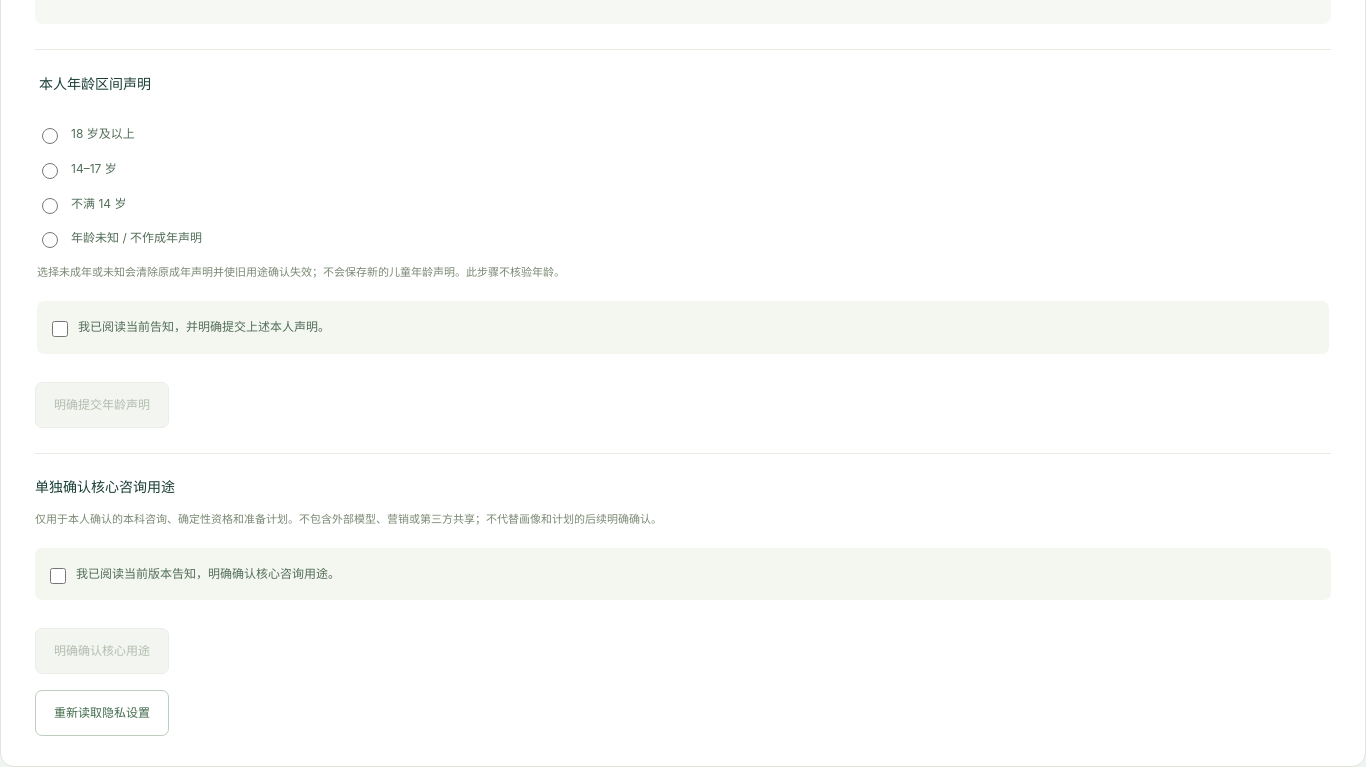
explicit privacy panel › shows a current 403 refusal without pretending consent succeeded
(page scrolled)
Step 1. Click the checkbox with test id "core-confirmation" → x=58, y=576, box [50,568,66,584]
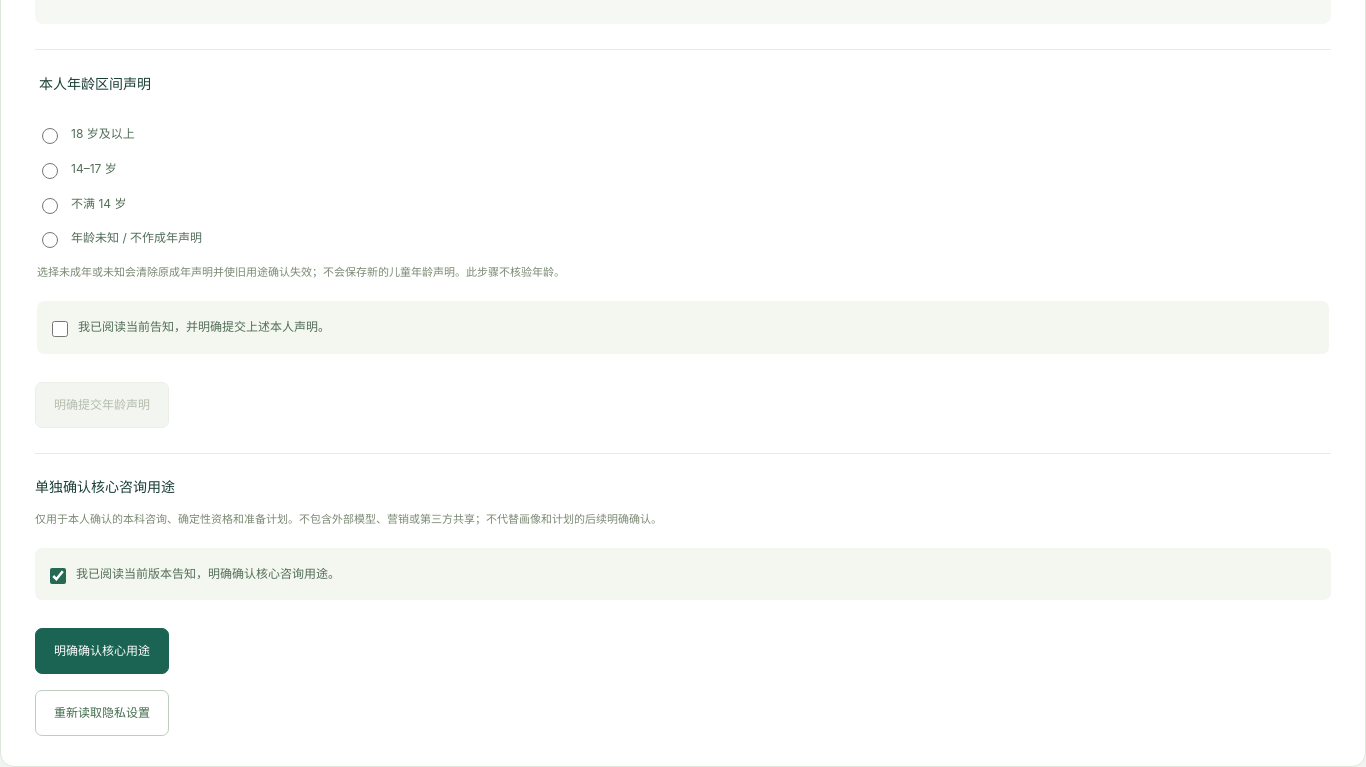
Step 2. Submit the form that starts with "单独确认核心咨询用途", box [35,453,1331,674]
(page scrolled)
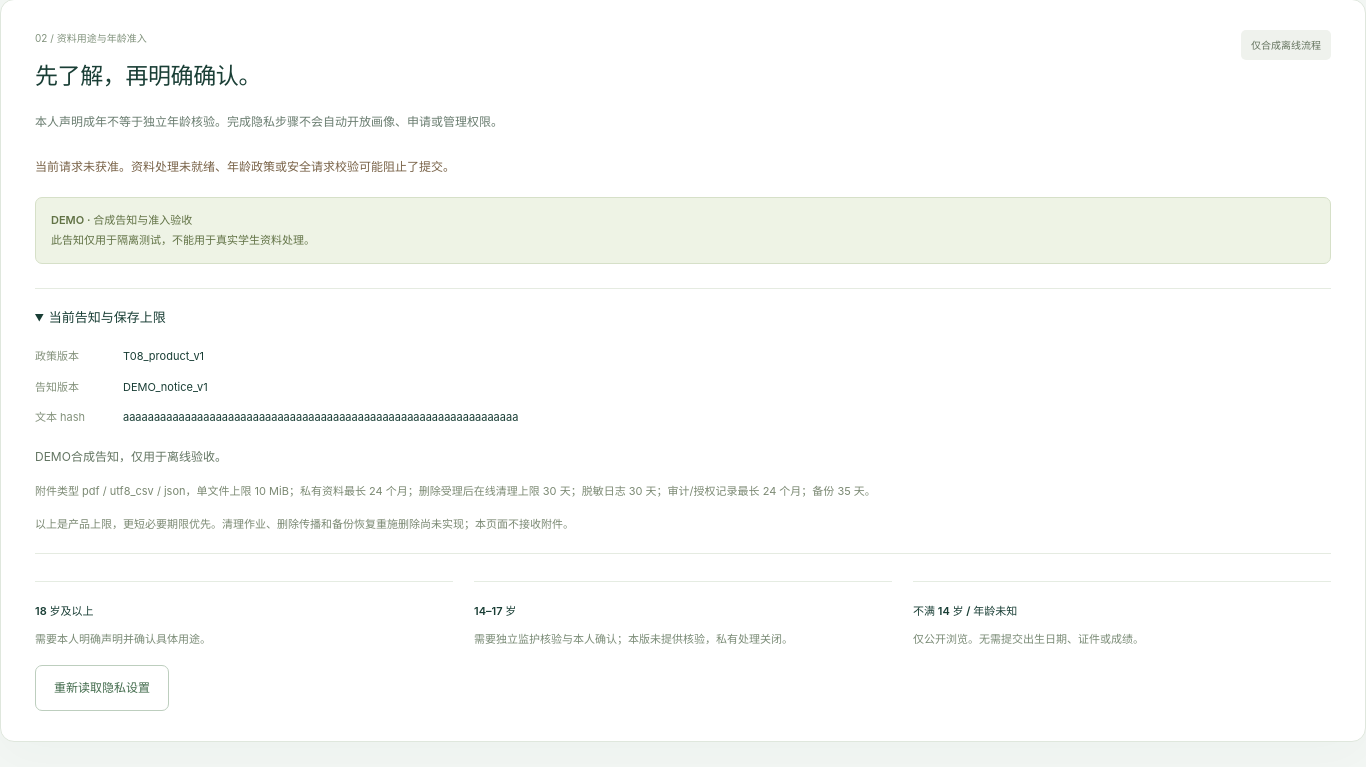
Now the message "当前请求未获准。资料处理未就绪、年龄政策或安全请求校验可能阻止了提交。" is shown, box [35,159,455,174]
